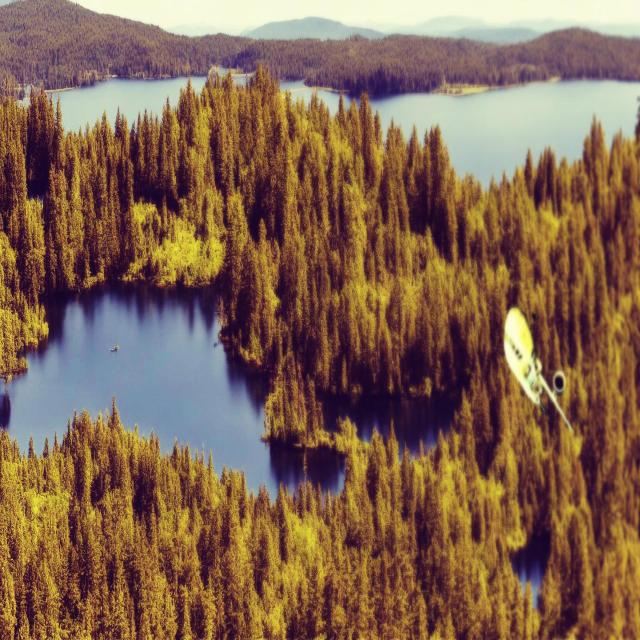airplane: (503, 306, 574, 436)
